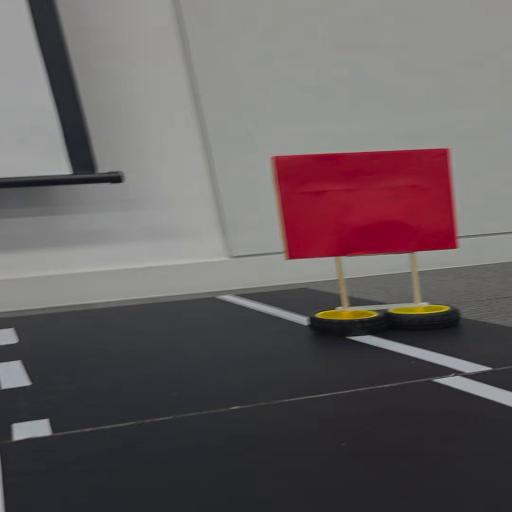Sign_A: (264, 146, 476, 339)
